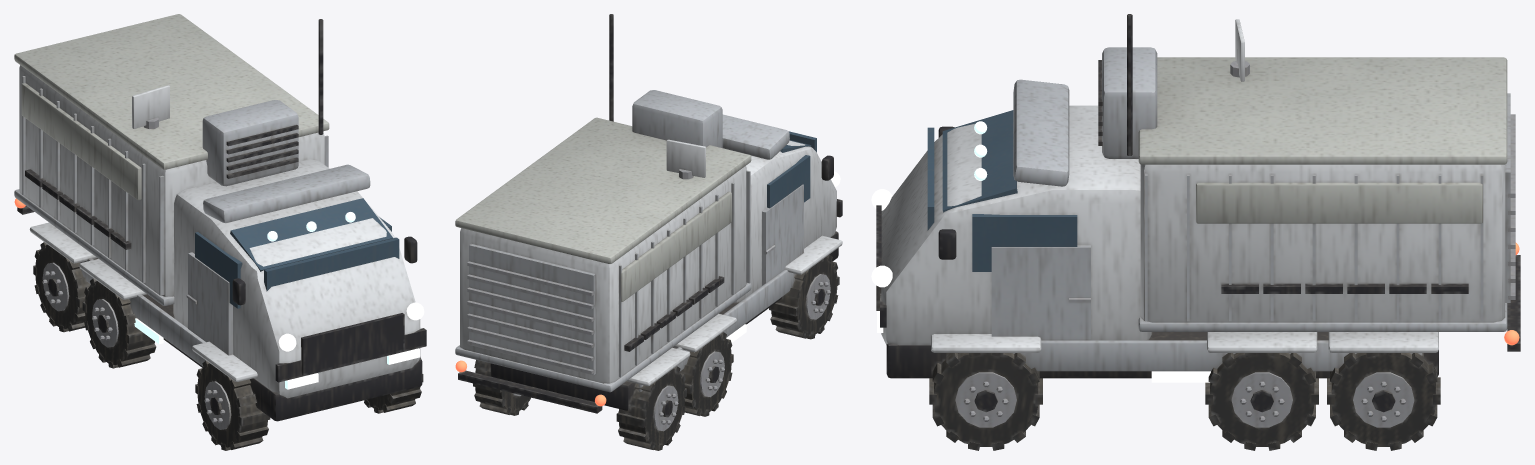
File: west_truck.glb
3 renders of one model, left to right at view 1: azimuth 30°, elevation 25°; view 2: azimuth 150°, elevation 25°; view 3: azimuth 270°, elevation 25°, orthographic. The views are drawn at different scales.
Visible parts, largest first — view 1: Hull; view 2: Hull; view 3: Hull.
Part boxes in pixels (box(x1,y1,x2,y2)): Hull: box(14, 14, 426, 450); Hull: box(455, 14, 842, 450); Hull: box(871, 14, 1520, 450).
Size of the model in its own units: 2.47 by 4.23 by 5.88.
Materials: 10 (10 with a texture image).
